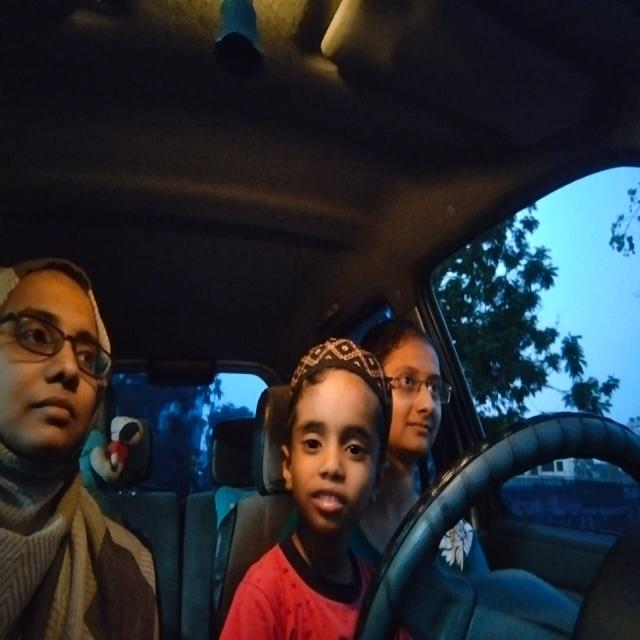person: (1, 247, 120, 490), (365, 312, 454, 468)
